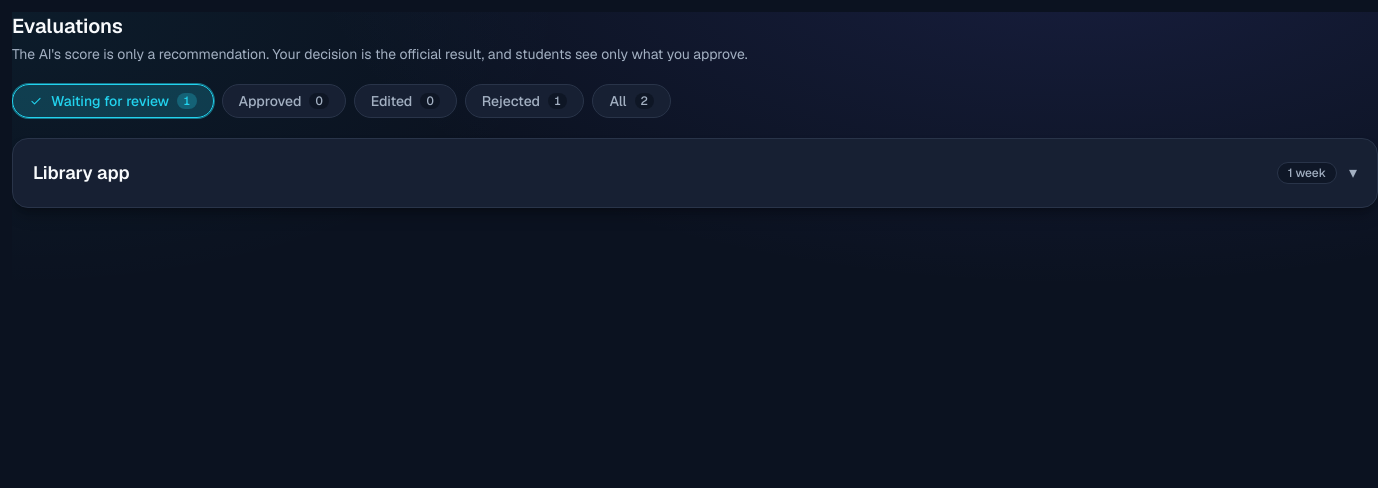
Test: FacultyQueue › shows a quiz that exists but was not taken, and a rejection without a score
Step 1. Click the button "All 2" → (632, 101), box [592, 84, 671, 118]
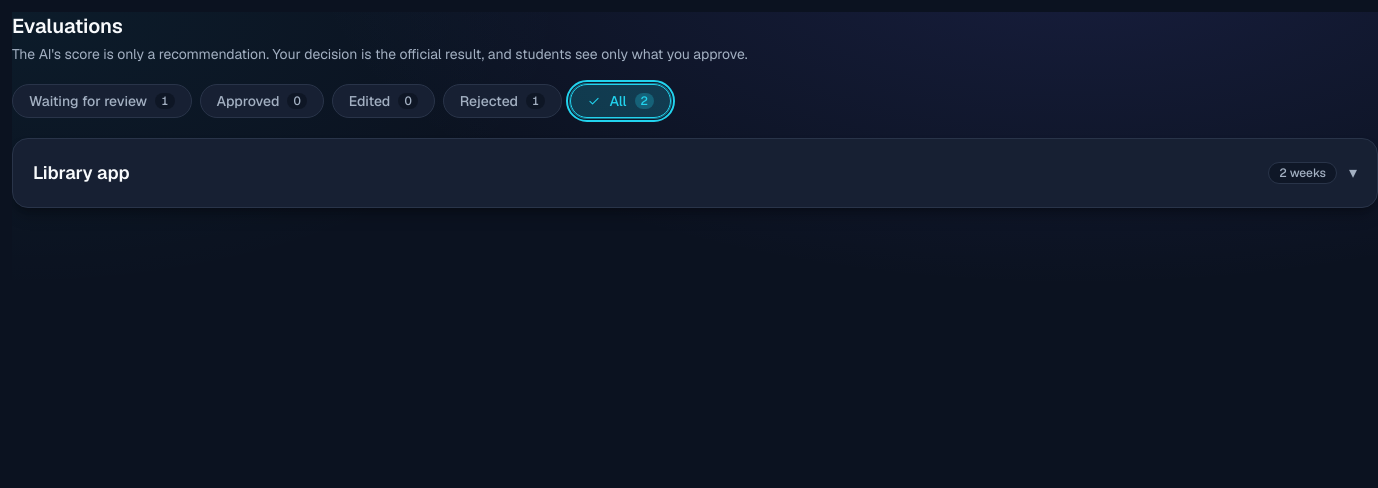
Step 2. Click the text "Library app" → (81, 173), box [33, 159, 130, 187]
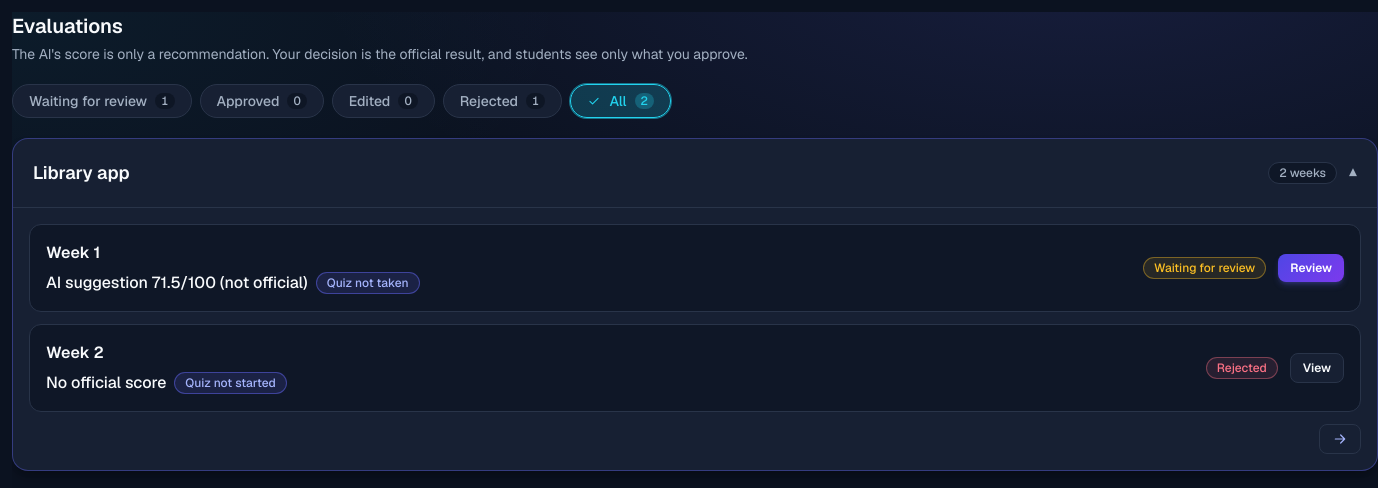
Now the 1st list item shows "Quiz not taken", box [29, 224, 1361, 312]
Now the list item "Week 2 No official score Quiz not started Rejected View" is shown, box [29, 324, 1361, 412]
